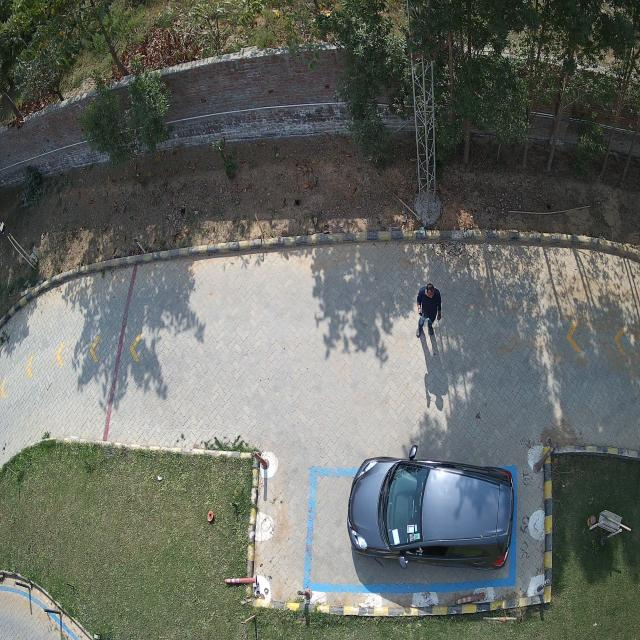car: (347, 457, 515, 569)
